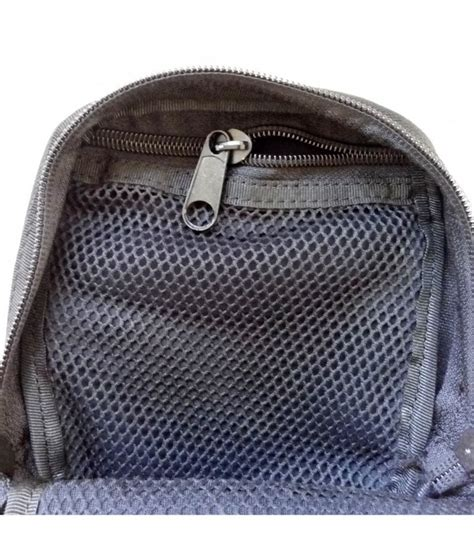nylon: (3, 68, 474, 516)
